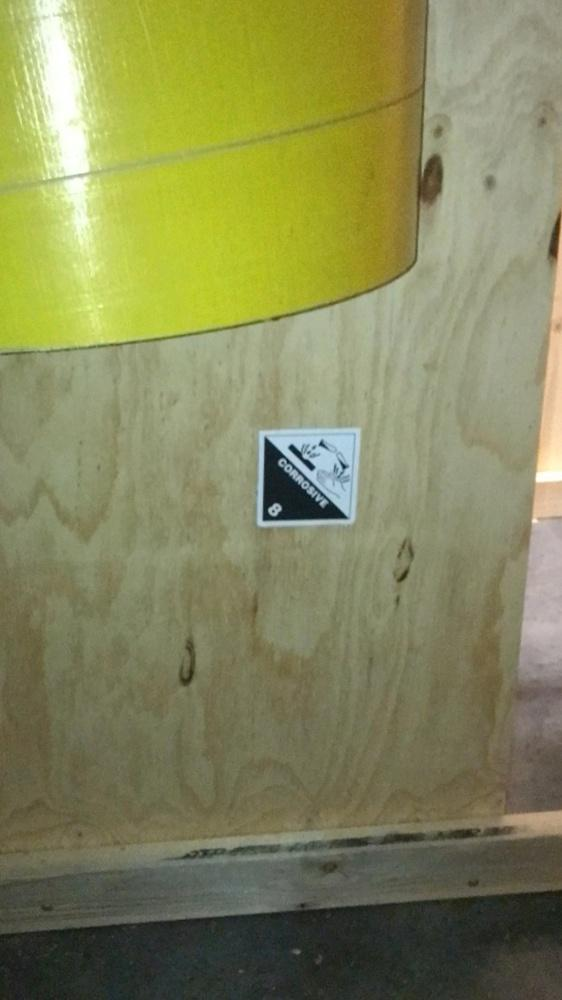corrosive: (255, 423, 362, 528)
